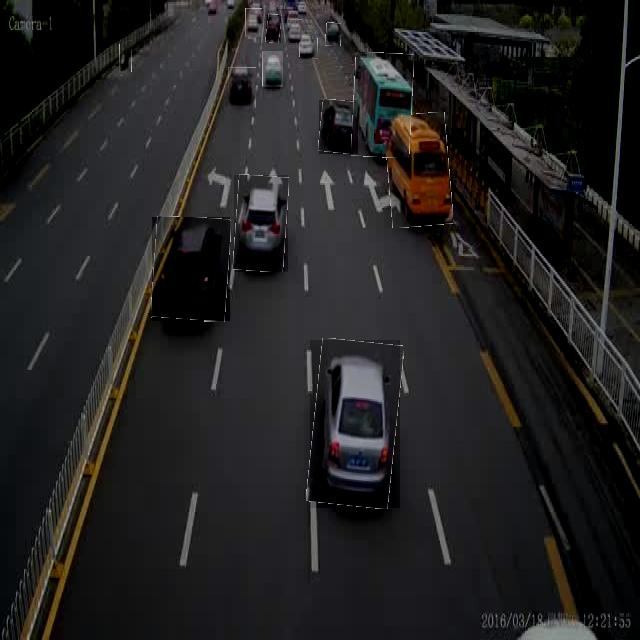Bus: (386, 113, 451, 227), (353, 53, 413, 157)
Car: (310, 340, 400, 508), (152, 218, 230, 322), (234, 175, 288, 272), (319, 100, 358, 154), (228, 67, 256, 108), (262, 52, 283, 88), (245, 8, 262, 37), (299, 35, 318, 59), (266, 15, 281, 43), (326, 23, 341, 46), (290, 19, 302, 42)
Motorcycle: (120, 40, 132, 76)
